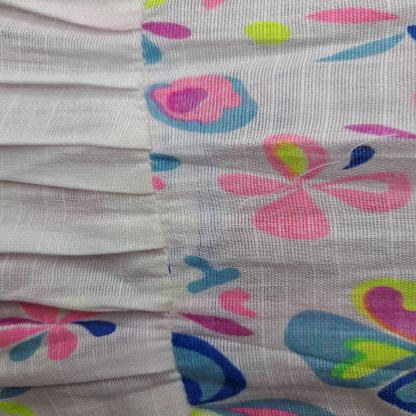spot: (119, 130, 136, 141)
